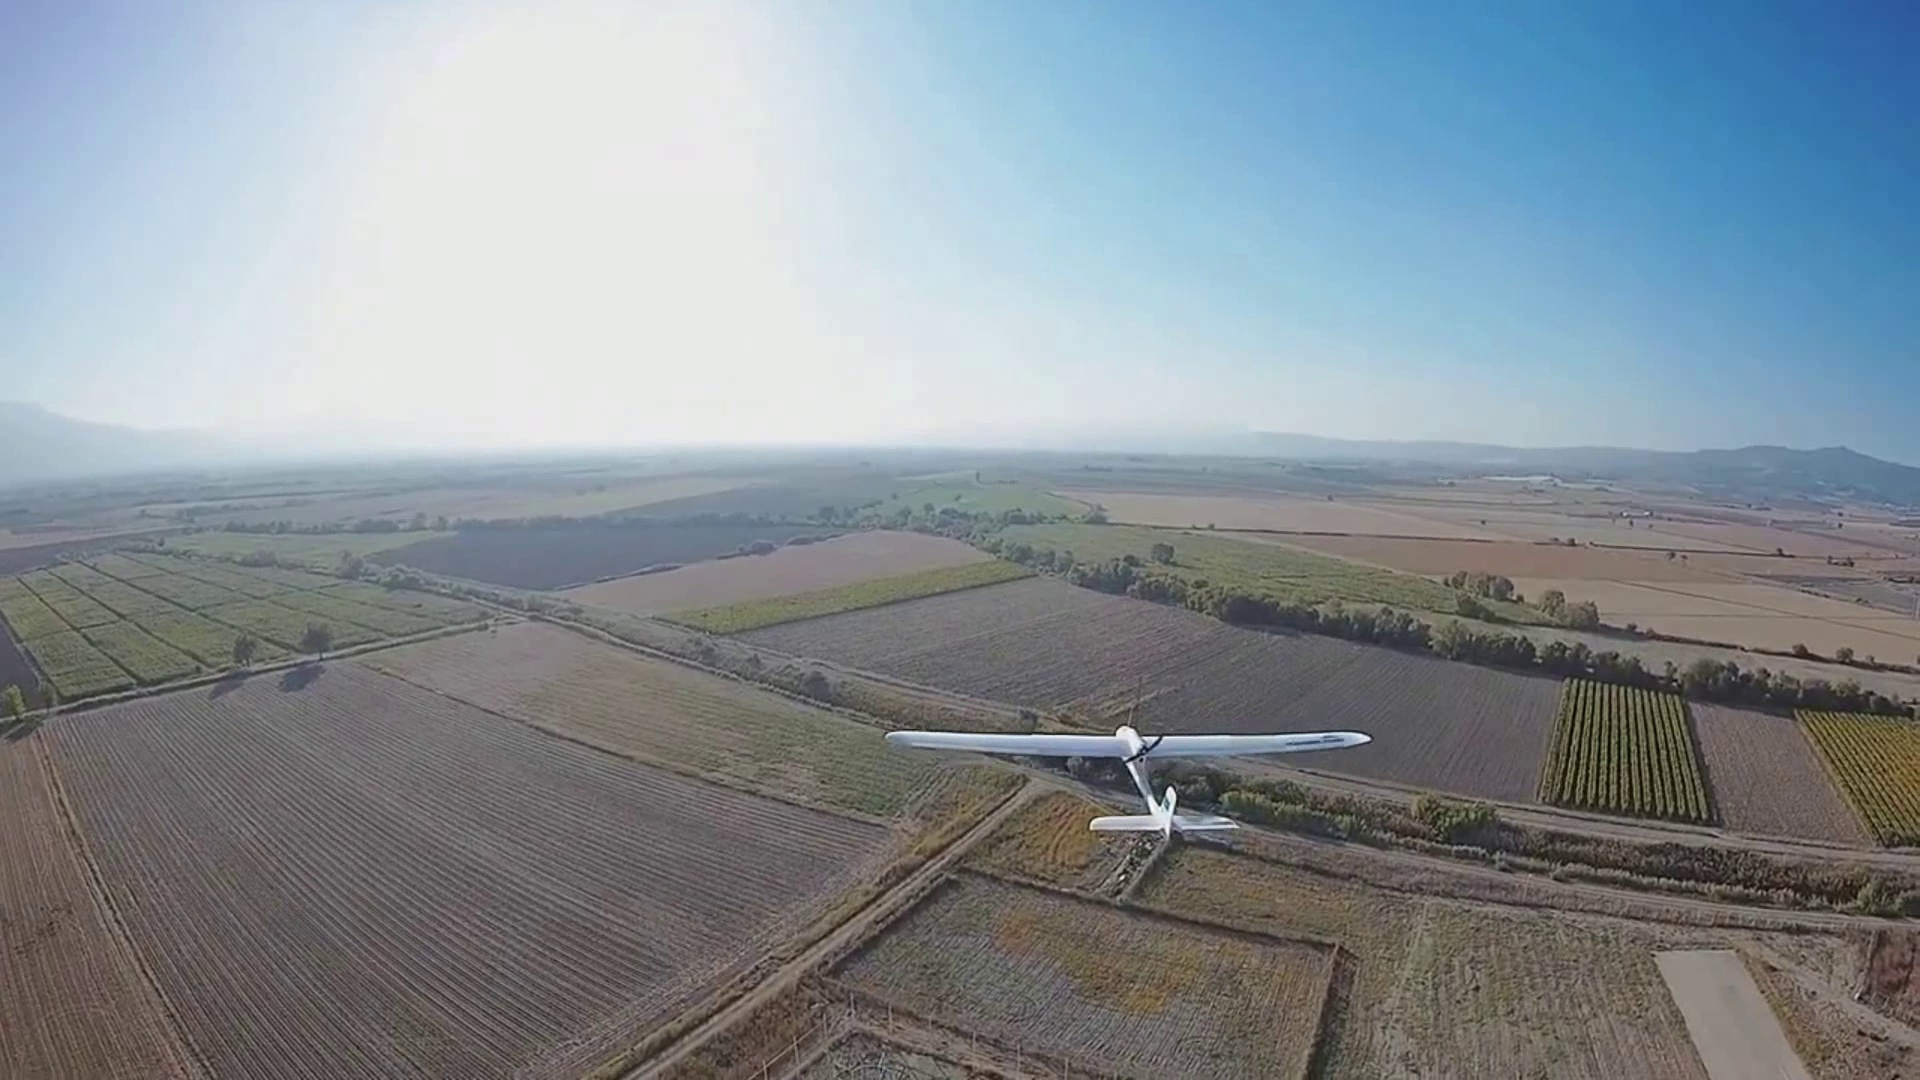airplane: (882, 714, 1372, 851)
